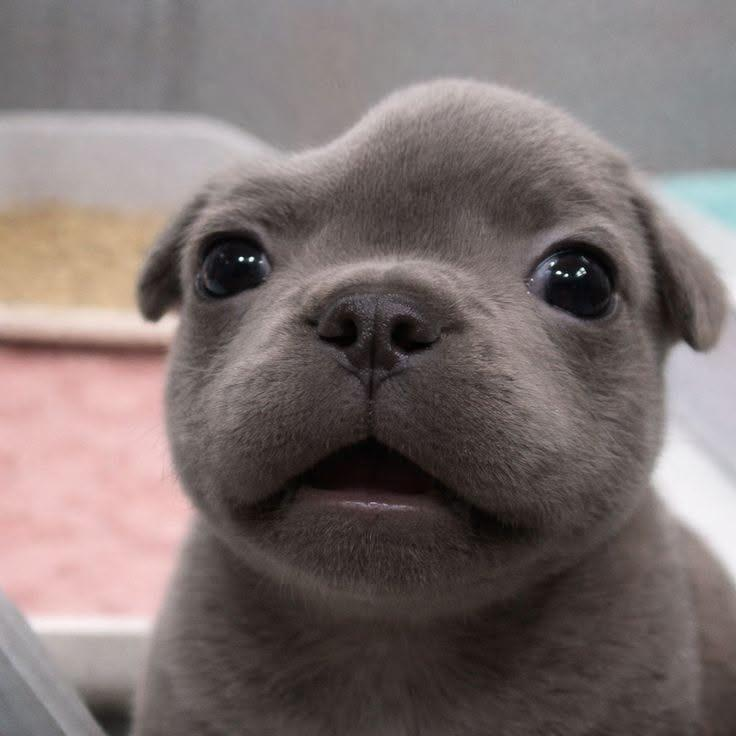puppy-dog: (127, 67, 735, 736)
